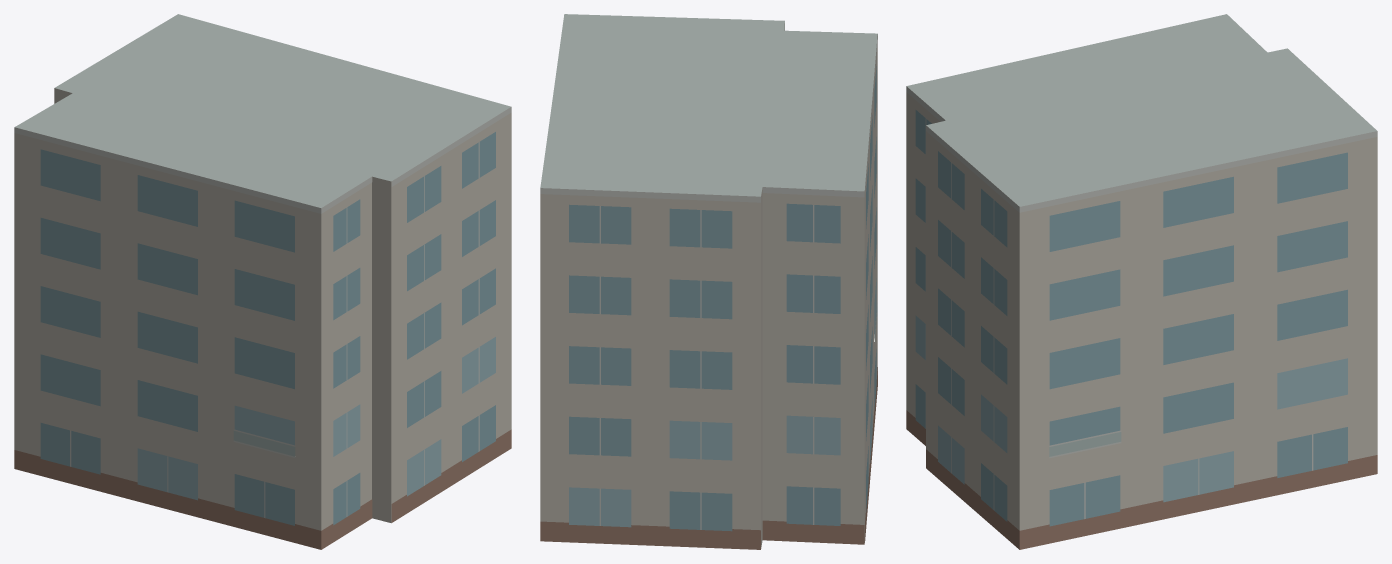
File: survey-upis-32458105.glb
The picture shows the model from 3 angles, left to right: view 1: azimuth 30°, elevation 25°; view 2: azimuth 150°, elevation 25°; view 3: azimuth 270°, elevation 25°; orthographic projection. The views are drawn at different scales.
Visible parts, largest first — view 1: survey-upis-32458105.tmp; view 2: survey-upis-32458105.tmp; view 3: survey-upis-32458105.tmp.
Boxes of the visible parts, x1,y1,x2,y2 form: survey-upis-32458105.tmp: (14,14,511,549); survey-upis-32458105.tmp: (540,14,877,549); survey-upis-32458105.tmp: (906,14,1377,549).
Size of the model in its own units: 17.38 by 14.4 by 17.94.
